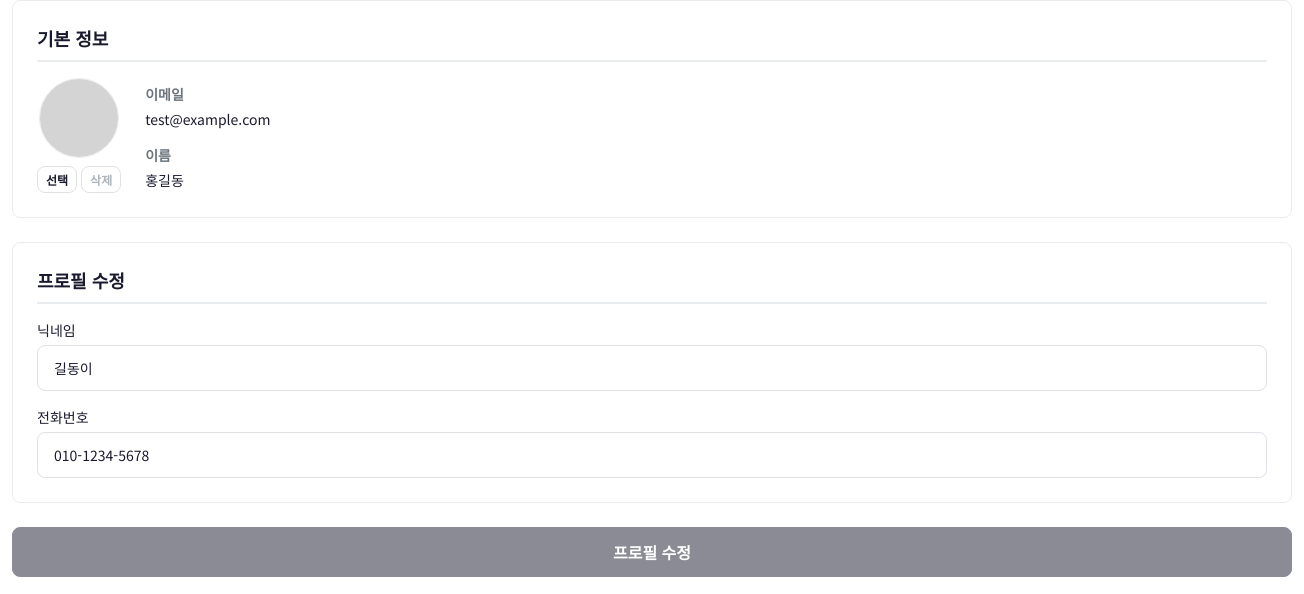
ProfileForm › 알 수 없는 에러 시 기본 메시지를 표시한다
The image size is (1304, 594).
Replace the text in the field labelled "닉네임" with "새닉네임" at (652, 368), box [37, 345, 1267, 391]
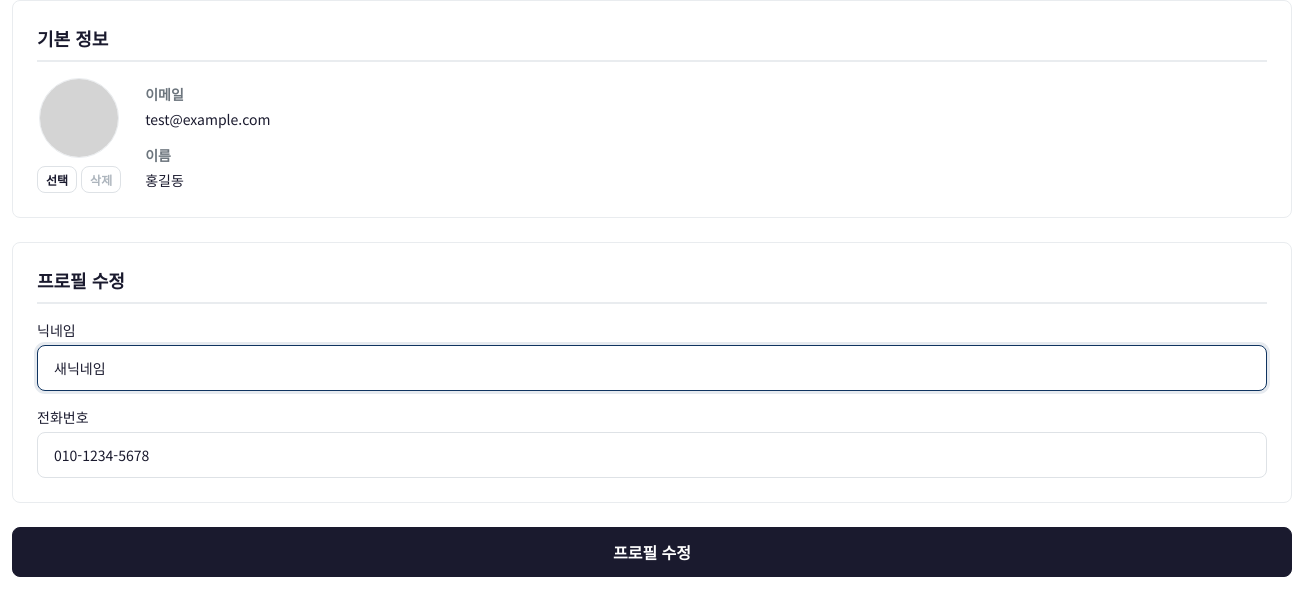
Click the button "프로필 수정".
click(652, 552)  # box [12, 527, 1292, 577]
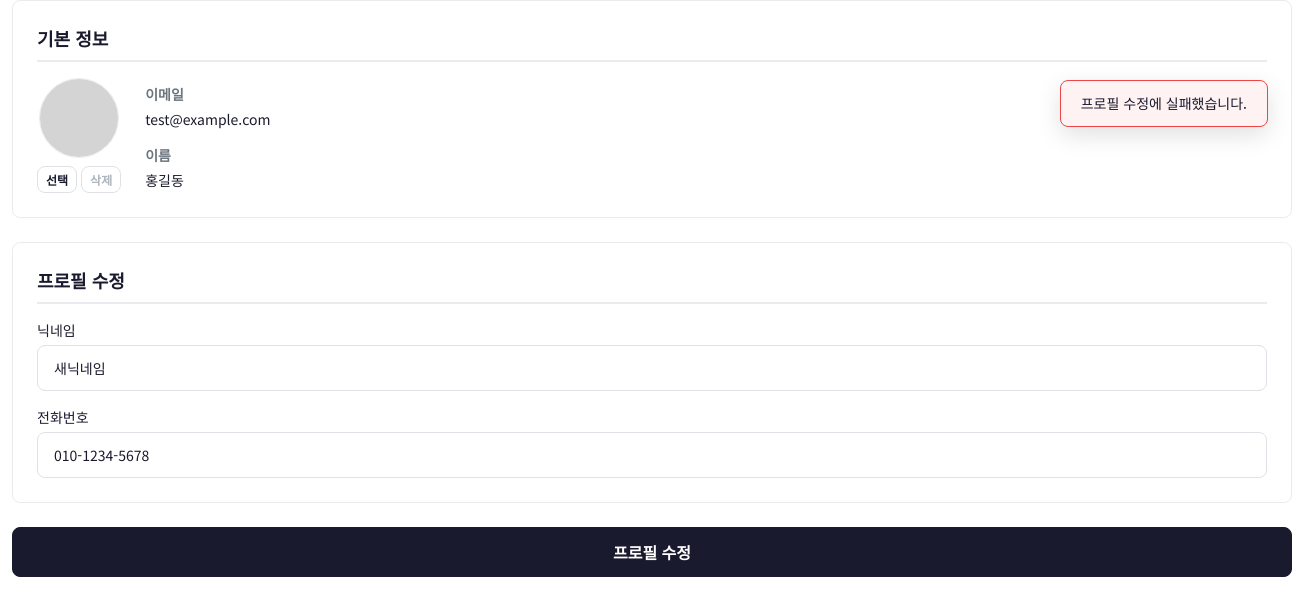
expect the text "프로필 수정에 실패했습니다." is shown: met, box [1060, 80, 1268, 127]
